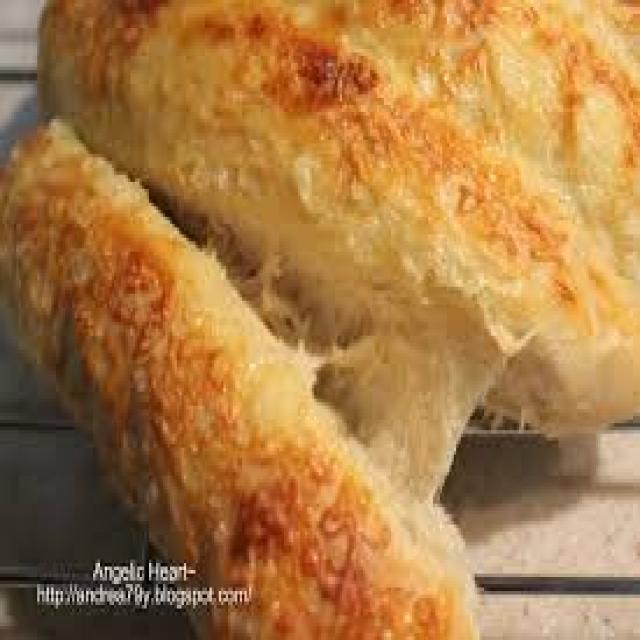organic waste: (32, 0, 638, 504), (0, 119, 475, 636)
